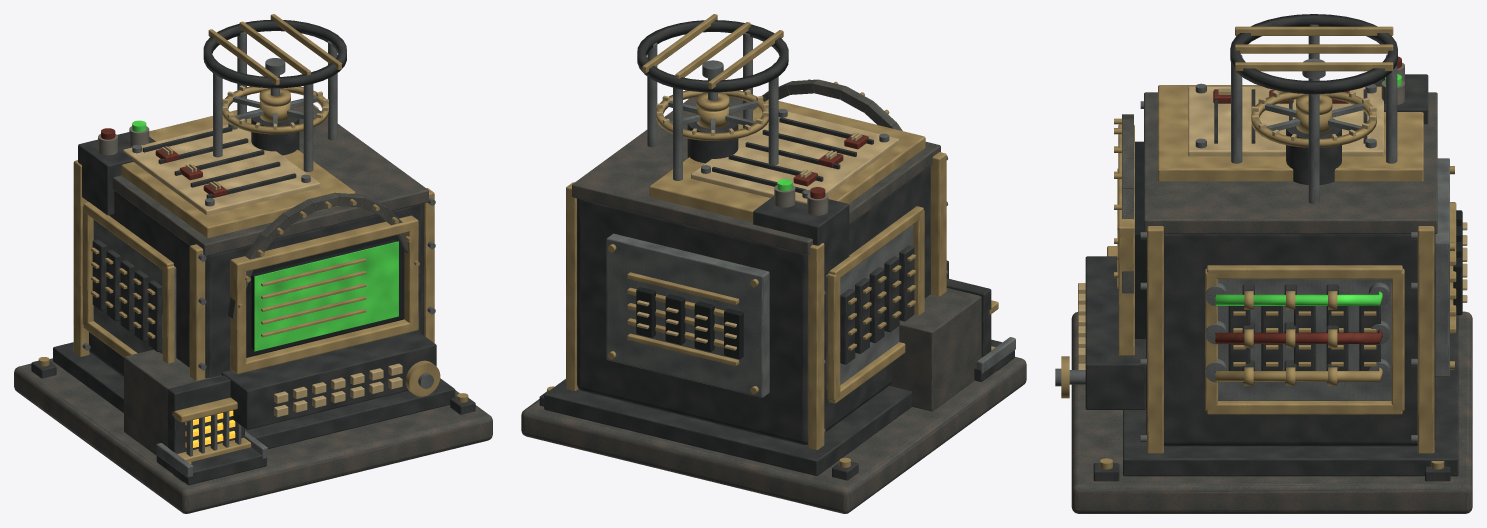
The model's file is laboratorium-v03.glb.
The picture shows the model from 3 angles, left to right: view 1: azimuth 30°, elevation 25°; view 2: azimuth 150°, elevation 25°; view 3: azimuth 270°, elevation 25°; orthographic projection. The views are drawn at different scales.
Visible parts, largest first — view 1: LABORATORIUM | dressed foundation, LABORATORIUM | closed research chamber, LABORATORIUM | refractory roof liner, LABORATORIUM | working green analysis insert, LABORATORIUM | founded control console, LABORATORIUM | roof parchment calibration tablet, LABORATORIUM | founded cabinet sill, LABORATORIUM | retained copper roof cover, LABORATORIUM | founded burner firebox, LABORATORIUM | rotor fixed cage guard, LABORATORIUM | analysis plate retained sill lintel.001, LABORATORIUM | analysis plate retained sill lintel (+32 smaller); view 2: LABORATORIUM | closed research chamber, LABORATORIUM | dressed foundation, LABORATORIUM | rear blind service hatch, LABORATORIUM | founded cabinet sill, LABORATORIUM | refractory roof liner, LABORATORIUM | founded burner firebox, LABORATORIUM | roof parchment calibration tablet, LABORATORIUM | retained copper roof cover, LABORATORIUM | rotor fixed cage guard, LABORATORIUM | founded circuit terminal block, LABORATORIUM | cabinet corner band.001, LABORATORIUM | side seated blind service cover (+27 smaller); view 3: LABORATORIUM | closed research chamber, LABORATORIUM | dressed foundation, LABORATORIUM | refractory roof liner, LABORATORIUM | founded cabinet sill, LABORATORIUM | retained copper roof cover, LABORATORIUM | side seated blind service cover.001, LABORATORIUM | founded control console, LABORATORIUM | roof parchment calibration tablet, LABORATORIUM | rotor fixed cage guard, LABORATORIUM | cabinet corner band.003, LABORATORIUM | cabinet corner band.002, LABORATORIUM | rear blind service hatch (+25 smaller).
Boxes of the visible parts, bbox=[...] form: LABORATORIUM | dressed foundation: bbox=[14, 358, 492, 513]; LABORATORIUM | closed research chamber: bbox=[89, 191, 423, 377]; LABORATORIUM | refractory roof liner: bbox=[112, 98, 428, 256]; LABORATORIUM | working green analysis insert: bbox=[254, 241, 398, 351]; LABORATORIUM | founded control console: bbox=[221, 330, 436, 429]; LABORATORIUM | roof parchment calibration tablet: bbox=[123, 124, 319, 214]; LABORATORIUM | founded cabinet sill: bbox=[53, 342, 455, 448]; LABORATORIUM | retained copper roof cover: bbox=[121, 110, 355, 237]; LABORATORIUM | founded burner firebox: bbox=[124, 349, 221, 455]; LABORATORIUM | rotor fixed cage guard: bbox=[203, 19, 346, 88]; LABORATORIUM | analysis plate retained sill lintel.001: bbox=[230, 215, 418, 272]; LABORATORIUM | analysis plate retained sill lintel: bbox=[230, 319, 418, 374]; LABORATORIUM | closed research chamber: bbox=[577, 166, 930, 445]; LABORATORIUM | dressed foundation: bbox=[521, 357, 1026, 513]; LABORATORIUM | rear blind service hatch: bbox=[606, 233, 769, 397]; LABORATORIUM | founded cabinet sill: bbox=[544, 379, 912, 475]; LABORATORIUM | refractory roof liner: bbox=[572, 97, 940, 254]; LABORATORIUM | founded burner firebox: bbox=[889, 288, 981, 411]; LABORATORIUM | roof parchment calibration tablet: bbox=[691, 111, 898, 204]; LABORATORIUM | retained copper roof cover: bbox=[649, 99, 925, 222]; LABORATORIUM | rotor fixed cage guard: bbox=[637, 20, 788, 92]; LABORATORIUM | founded circuit terminal block: bbox=[753, 196, 849, 274]; LABORATORIUM | cabinet corner band.001: bbox=[808, 243, 824, 449]; LABORATORIUM | side seated blind service cover: bbox=[826, 225, 913, 389]; LABORATORIUM | closed research chamber: bbox=[1146, 234, 1435, 446]; LABORATORIUM | dressed foundation: bbox=[1071, 311, 1472, 513]; LABORATORIUM | refractory roof liner: bbox=[1144, 92, 1437, 233]; LABORATORIUM | founded cabinet sill: bbox=[1123, 315, 1458, 476]; LABORATORIUM | retained copper roof cover: bbox=[1158, 85, 1423, 181]; LABORATORIUM | side seated blind service cover.001: bbox=[1218, 279, 1391, 400]; LABORATORIUM | founded control console: bbox=[1085, 256, 1146, 409]; LABORATORIUM | roof parchment calibration tablet: bbox=[1188, 86, 1383, 156]; LABORATORIUM | rotor fixed cage guard: bbox=[1230, 14, 1397, 94]; LABORATORIUM | cabinet corner band.003: bbox=[1417, 226, 1434, 453]; LABORATORIUM | cabinet corner band.002: bbox=[1147, 226, 1163, 453]; LABORATORIUM | rear blind service hatch: bbox=[1435, 158, 1449, 376].
Size of the model in its own units: 0.9 by 0.958 by 0.895.
10 materials, 10 textured.
